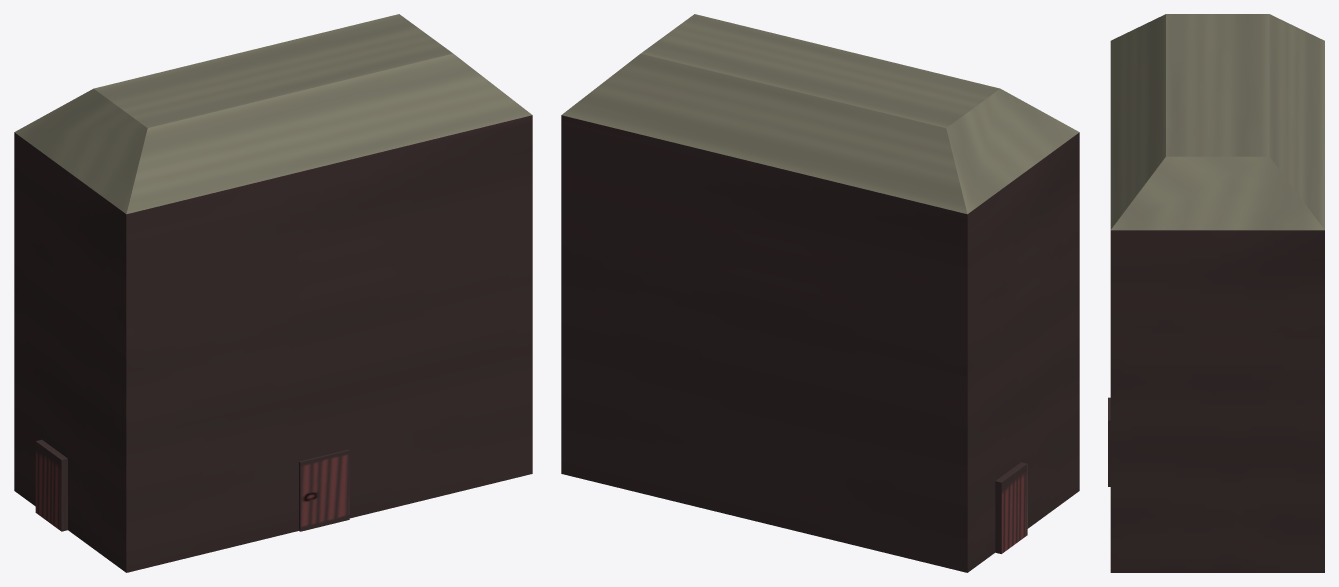
The model's file is house.glb.
3 views of the same model, side by side, from view 1: azimuth 30°, elevation 25°; view 2: azimuth 150°, elevation 25°; view 3: azimuth 270°, elevation 25° (orthographic). The views are drawn at different scales.
Visible parts, largest first — view 1: Cube-Col; view 2: Cube-Col; view 3: Cube-Col.
Boxes of the visible parts, box(x1,y1,x2,y2) form: Cube-Col: box(14, 14, 532, 572); Cube-Col: box(561, 14, 1079, 572); Cube-Col: box(1108, 14, 1324, 572).
Size of the model in its own units: 27.1 by 25.81 by 12.91.
1 material, 1 textured.
